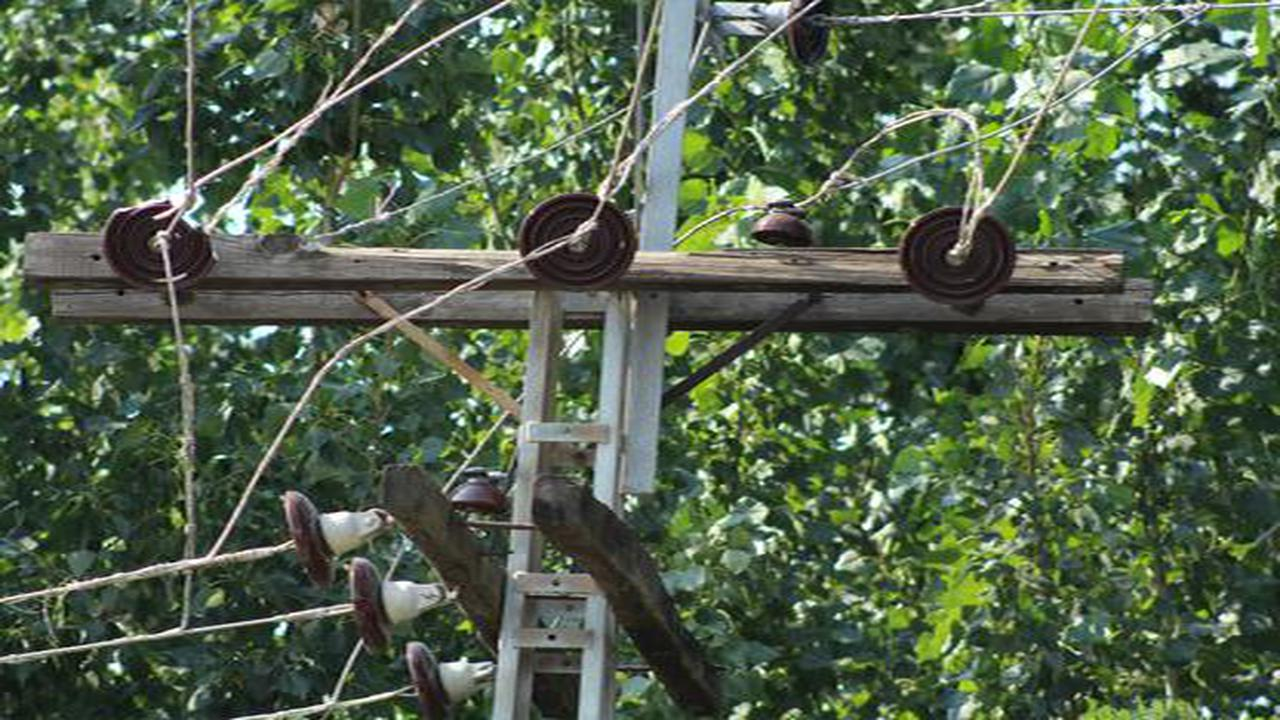defect_disc: (99, 191, 226, 299)
insulator_disc: (517, 188, 645, 294), (899, 204, 1019, 310), (337, 560, 446, 637), (280, 483, 394, 554), (396, 650, 492, 697)
insulator_pin: (447, 456, 513, 525), (747, 194, 817, 247)
